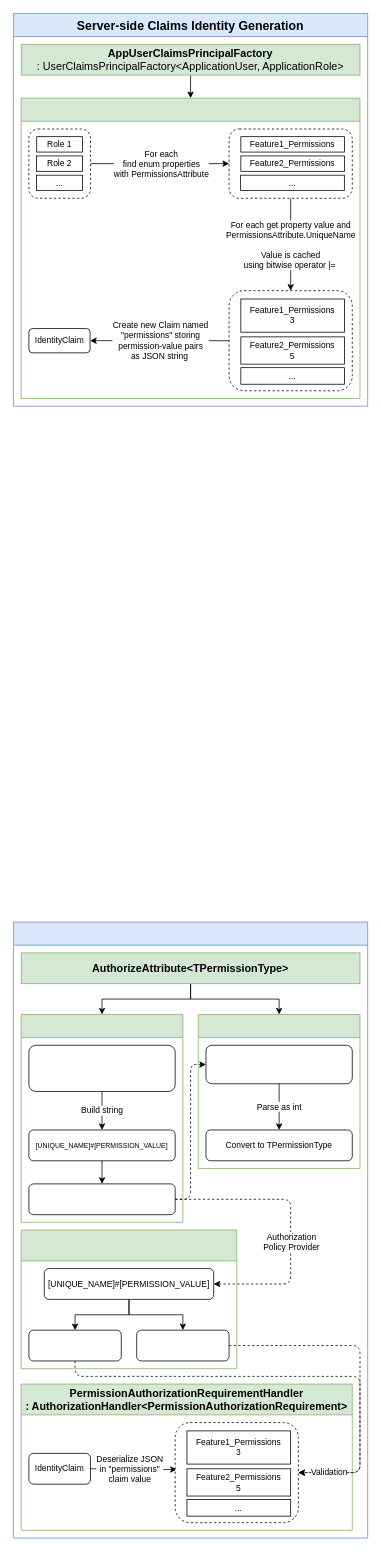
Image size: 381x1552. Some labels were removed from this diagram. Here are the shapes that lost their labels. From the top down, the box of each, then its label:
(20, 97, 360, 398): PermissionsClaimBuilder.BuildFromRoles
(28, 1045, 175, 1091): Enum Value converted to int + find PermissionAttribute.UniqueName
(205, 1045, 352, 1084): Get permission value from the policy string
(198, 1014, 360, 1168): Permissions.Get
(20, 1014, 183, 1222): Permissions.Set
(28, 1183, 175, 1215): Set as AuthorizeAttribute.Policy
(13, 921, 368, 1538): Server-side Authorization
(20, 1229, 237, 1369): PermissionAuthorization Requirement : IAuthorizationRequirement
(28, 1329, 121, 1361): UniqueName
(136, 1329, 229, 1361): Value
